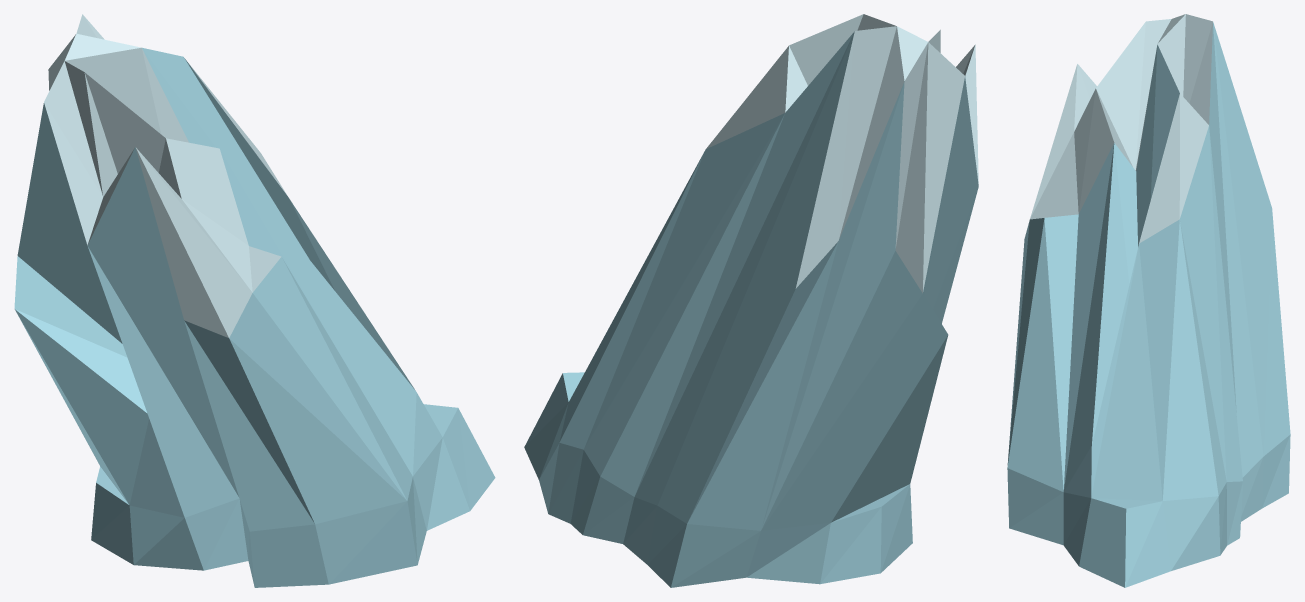
File: sharp_rock_4.fbx
3 views of the same model, side by side, from view 1: azimuth 30°, elevation 25°; view 2: azimuth 150°, elevation 25°; view 3: azimuth 270°, elevation 25° (orthographic). The views are drawn at different scales.
Visible parts, largest first — view 1: sharp_rock_4; view 2: sharp_rock_4; view 3: sharp_rock_4.
Boxes of the visible parts, x1,y1,x2,y2 form: sharp_rock_4: [14, 14, 495, 587]; sharp_rock_4: [524, 14, 978, 587]; sharp_rock_4: [1007, 14, 1290, 587].
Size of the model in its own units: 379 by 424 by 258.
